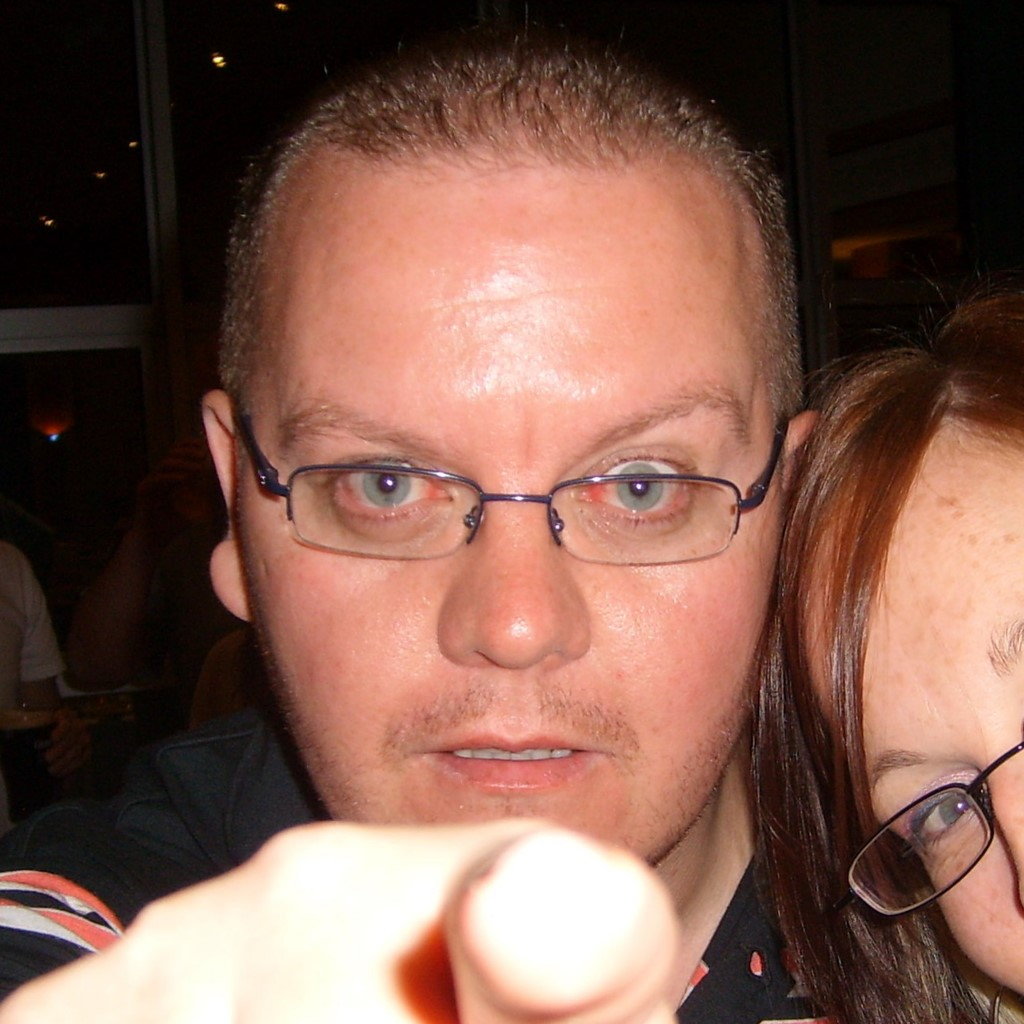sin_mascara: (225, 104, 801, 957)
